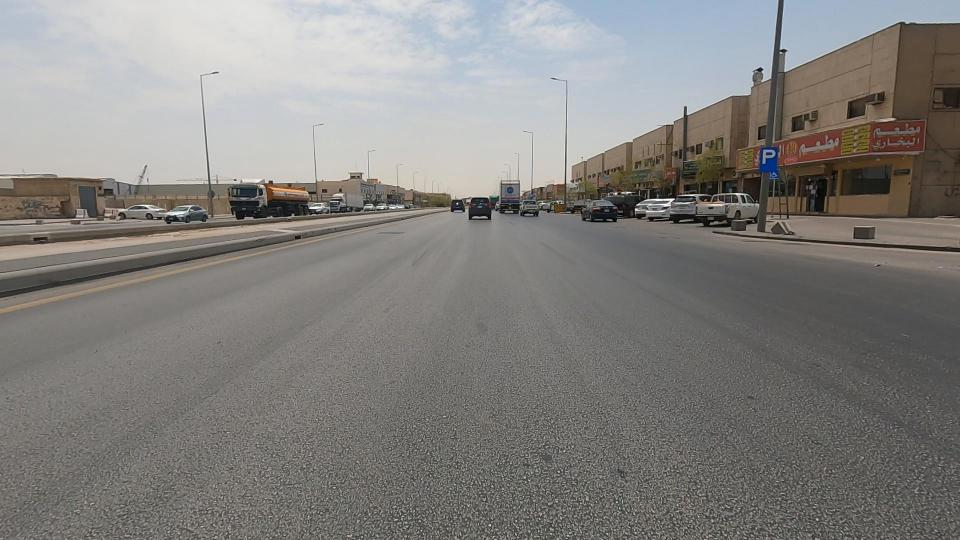UNKEPT_FACADE: (0, 184, 101, 235)
